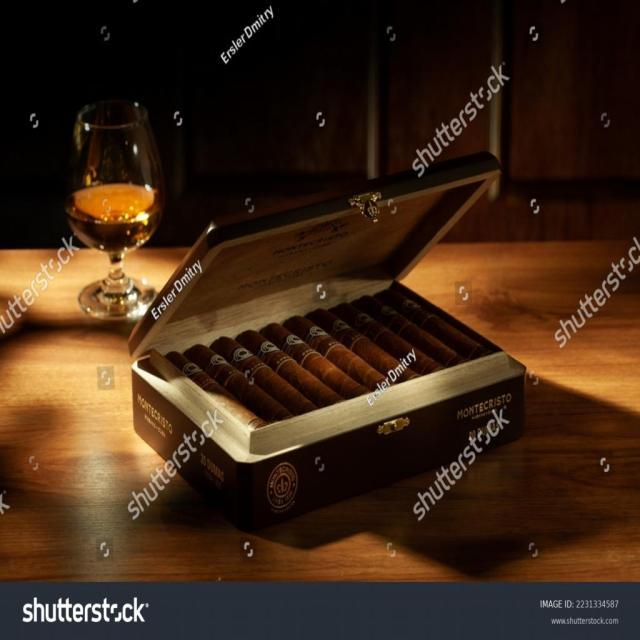smoking: (165, 262, 500, 448)
